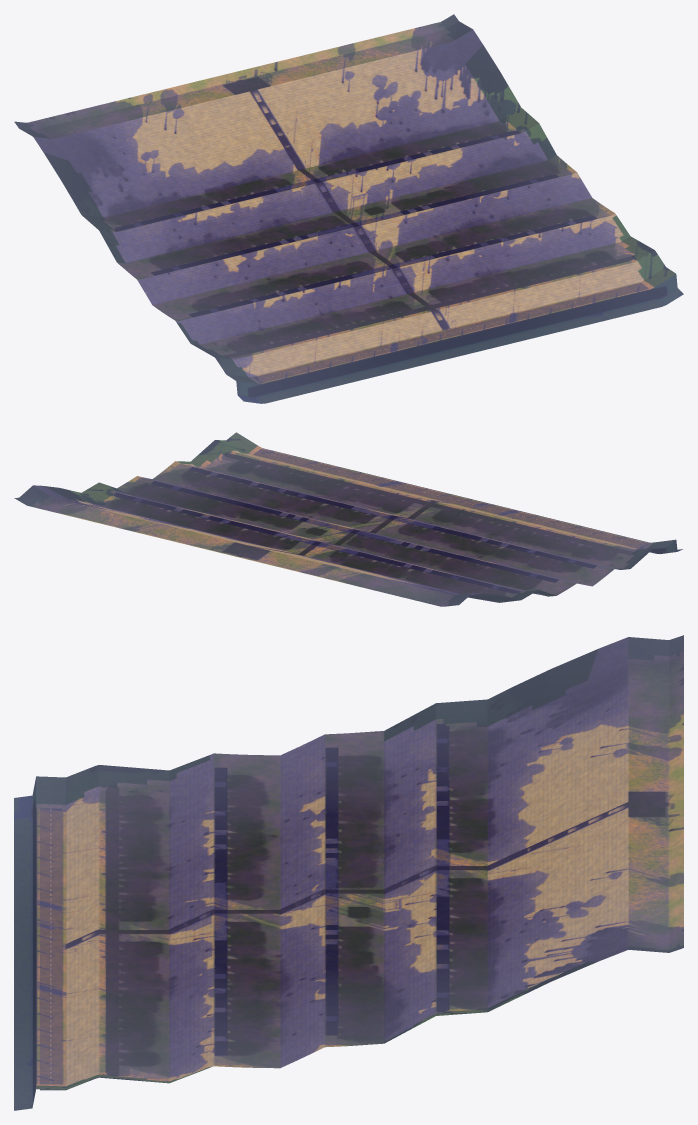
File: terrain.glb
3 views of the same model, one above another, from view 1: azimuth 30°, elevation 25°; view 2: azimuth 150°, elevation 25°; view 3: azimuth 270°, elevation 25° (orthographic). The views are drawn at different scales.
Parts seen in each view (by area): view 1: piece_terrain; view 2: piece_terrain; view 3: piece_terrain.
Boxes of the visible parts, x1,y1,x2,y2 form: piece_terrain: (14,14,683,403); piece_terrain: (14,432,682,606); piece_terrain: (14,635,683,1110).
Size of the model in its own units: 200 by 51.73 by 181.
1 material, 1 textured.
